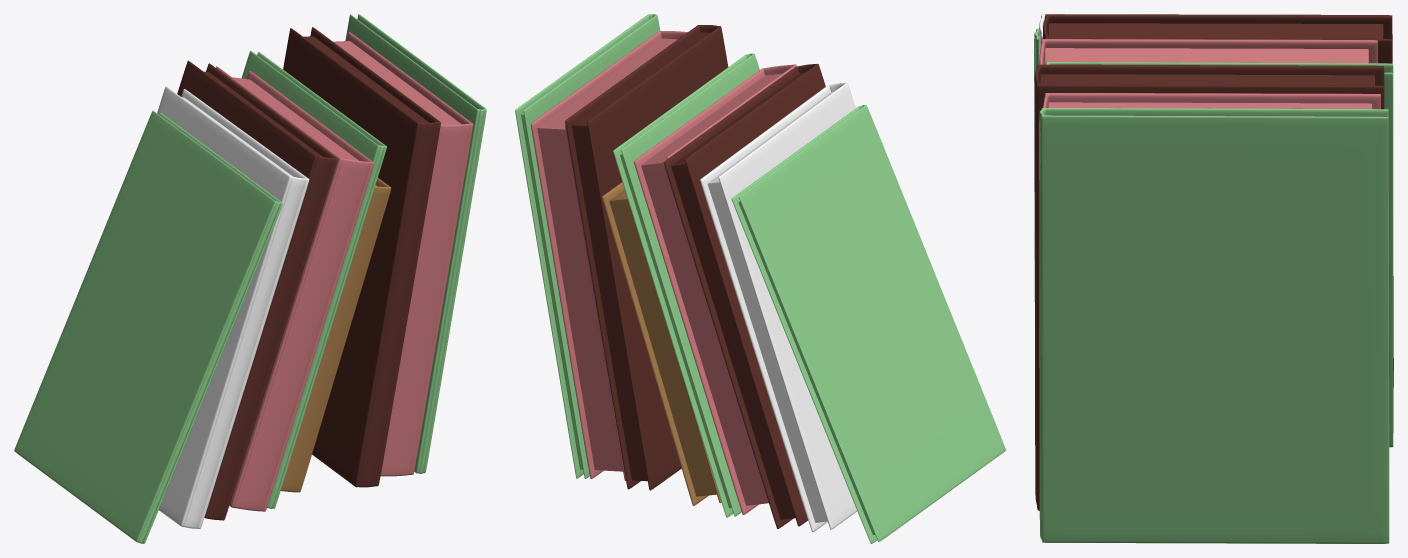
The model's file is libri_fix.fbx.
3 views of the same model, side by side, from view 1: azimuth 30°, elevation 25°; view 2: azimuth 150°, elevation 25°; view 3: azimuth 270°, elevation 25° (orthographic). The views are drawn at different scales.
Visible parts, largest first — view 1: Cube.068; view 2: Cube.068; view 3: Cube.068.
Part boxes in pixels (x1,y1,x2,y2): Cube.068: (14,14,486,543); Cube.068: (515,14,1005,543); Cube.068: (1034,14,1393,543).
Size of the model in its own units: 25.78 by 24.72 by 17.
